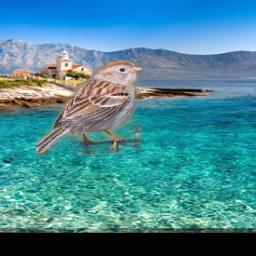Sparrow: (36, 61, 142, 156)
